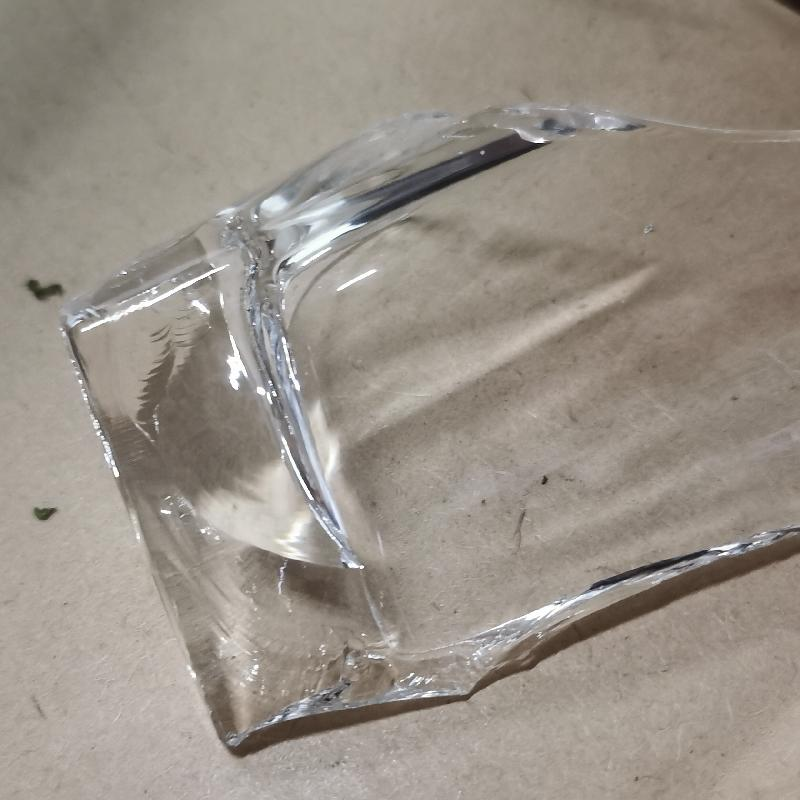glass: (62, 96, 799, 747)
